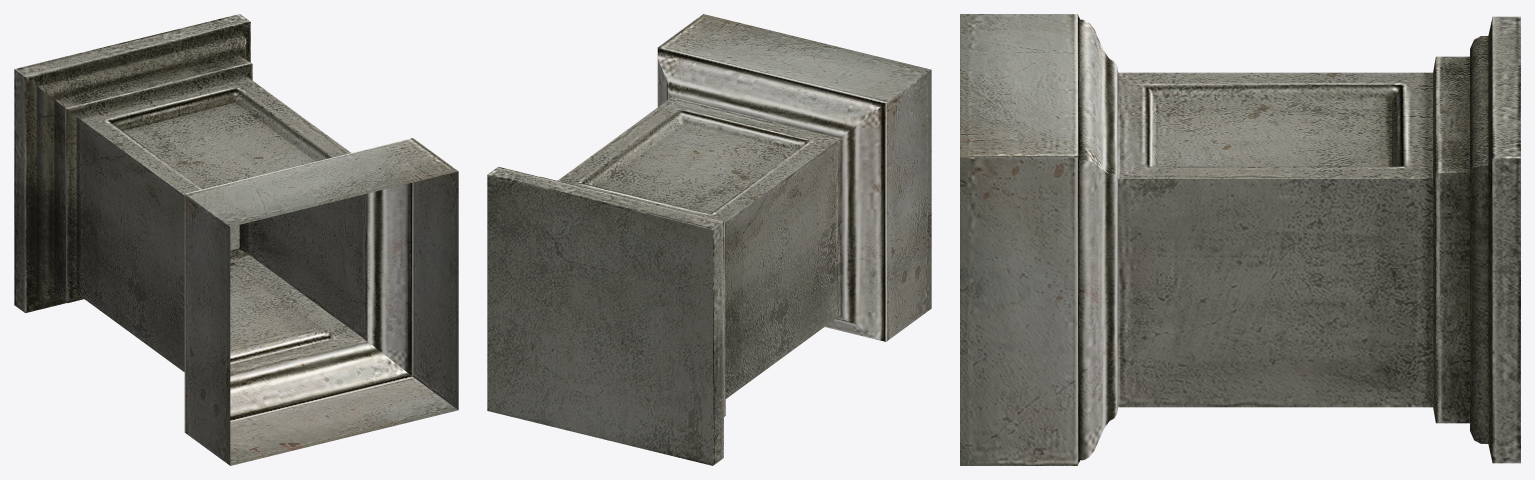
File: wall.fbx
The picture shows the model from 3 angles, left to right: view 1: azimuth 30°, elevation 25°; view 2: azimuth 150°, elevation 25°; view 3: azimuth 270°, elevation 25°; orthographic projection. The views are drawn at different scales.
Visible parts, largest first — view 1: pedestal2; view 2: pedestal2; view 3: pedestal2.
Boxes of the visible parts, left/top/right/bottom form: pedestal2: left=14, top=14, right=458, bottom=465; pedestal2: left=487, top=14, right=931, bottom=465; pedestal2: left=960, top=14, right=1520, bottom=465.
Size of the model in its own units: 61.2 by 61.2 by 101.
Materials: 1 (1 with a texture image).
